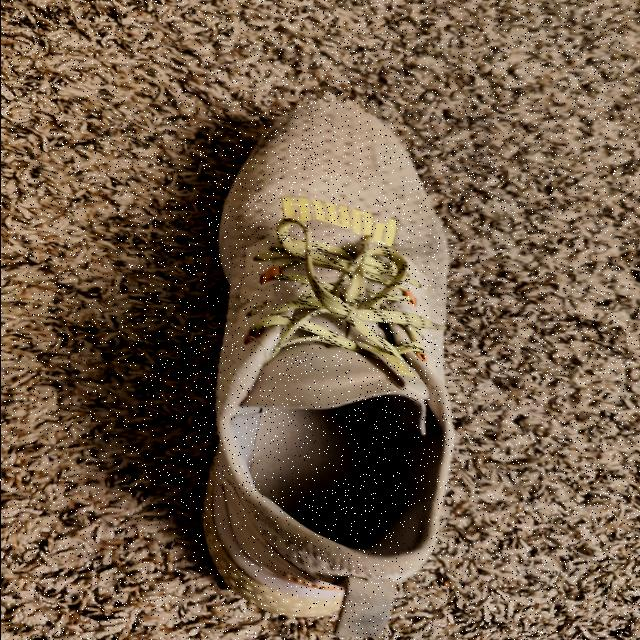white shoes: (199, 103, 449, 638)
